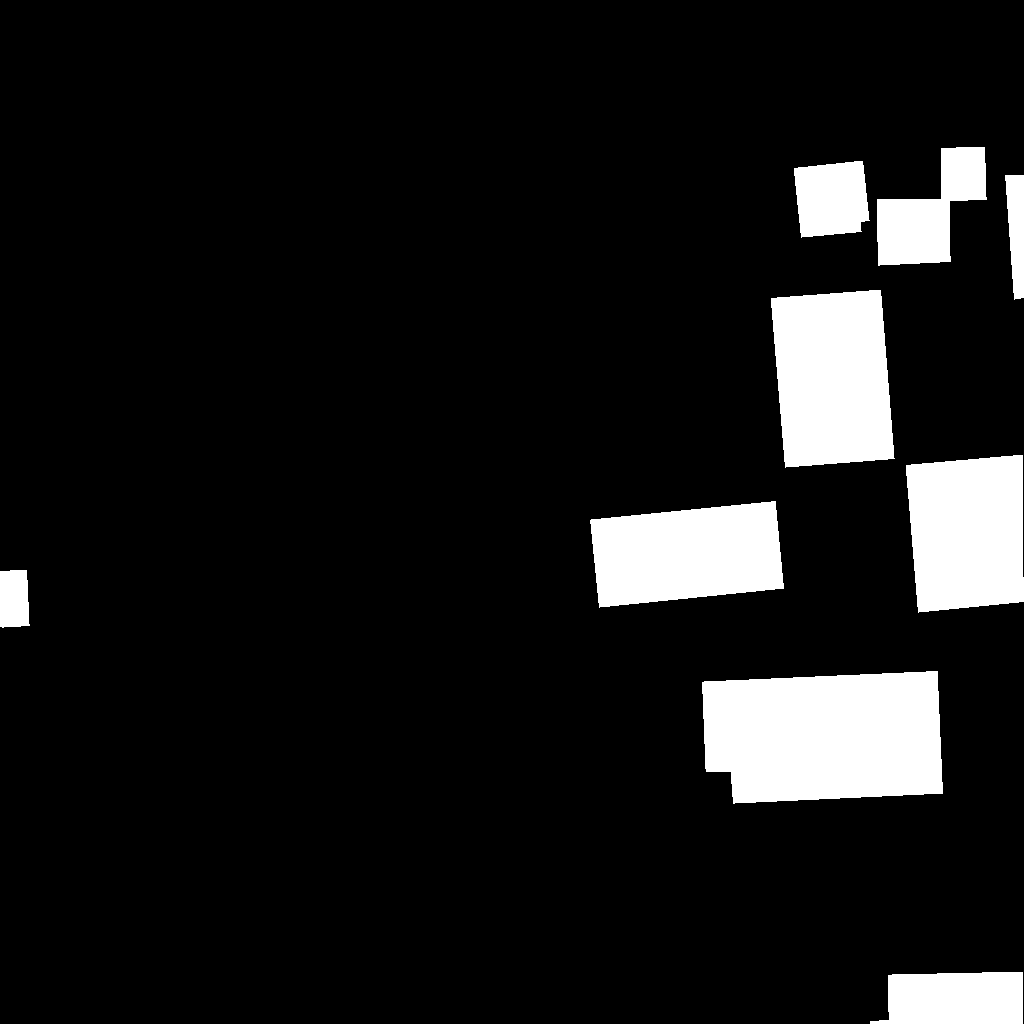building: (906, 316, 1024, 613), (702, 671, 944, 804), (771, 290, 895, 468), (590, 501, 785, 608), (877, 147, 987, 266), (870, 972, 1024, 1024), (794, 161, 870, 238), (1005, 175, 1024, 300), (0, 570, 30, 628)
